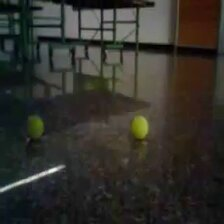tennis: (24, 114, 45, 142), (130, 115, 149, 140)
